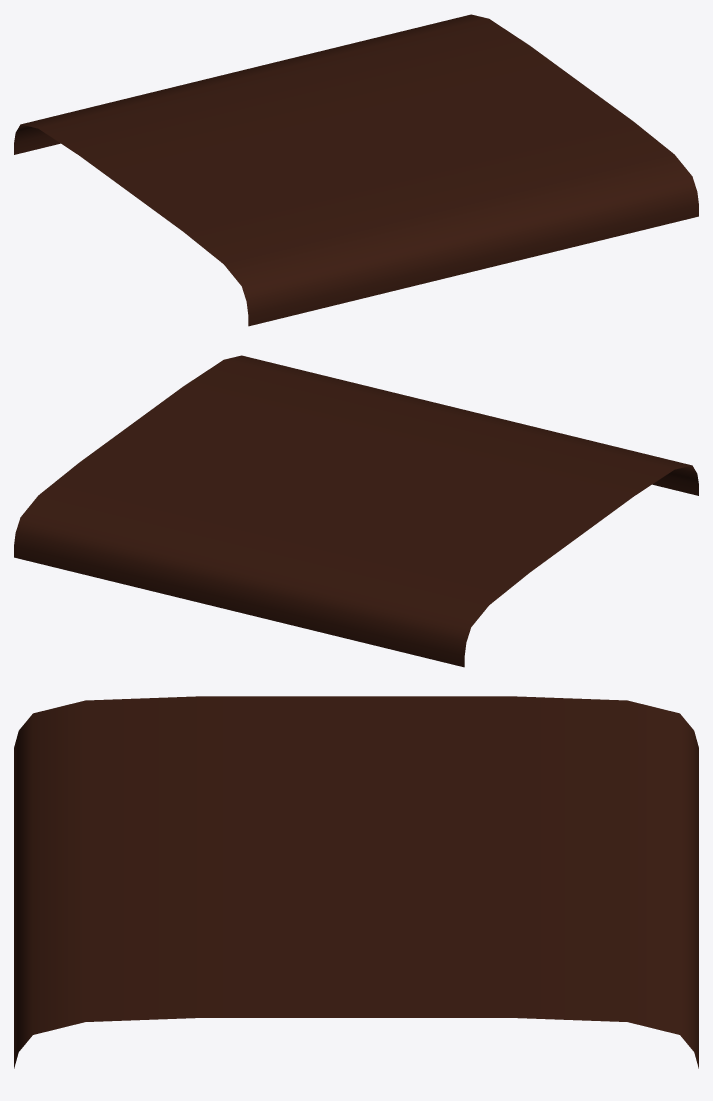
Rendered from Soil Line.fbx.
3 views of the same model, one above another, from view 1: azimuth 30°, elevation 25°; view 2: azimuth 150°, elevation 25°; view 3: azimuth 270°, elevation 25° (orthographic). The views are drawn at different scales.
Visible parts, largest first — view 1: Soil_Line; view 2: Soil_Line; view 3: Soil_Line.
Boxes of the visible parts, x1,y1,x2,y2 form: Soil_Line: [14, 14, 698, 326]; Soil_Line: [14, 355, 698, 667]; Soil_Line: [14, 696, 698, 1068].
Bounding box in the file's own units: 100 × 10 × 90.
1 material, 1 textured.
